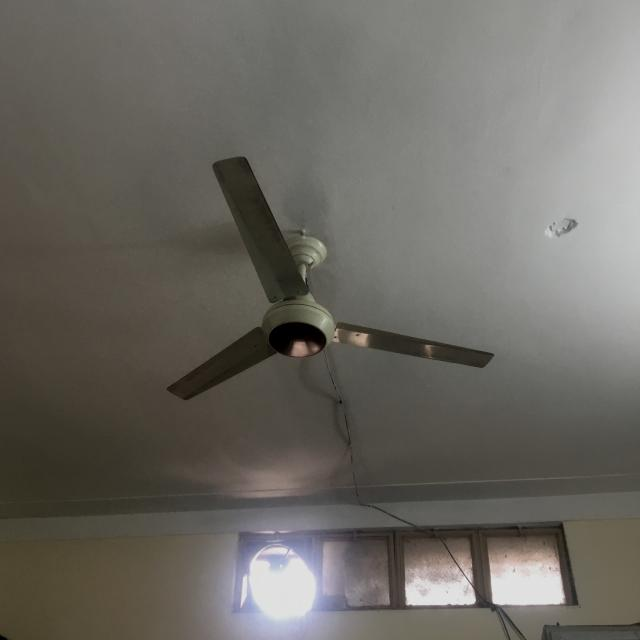off: (158, 151, 497, 407)
